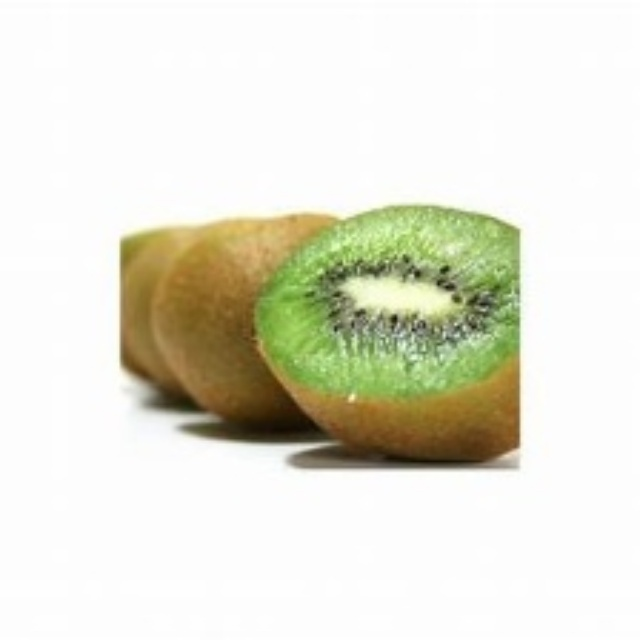kiwi: (124, 209, 548, 480)
